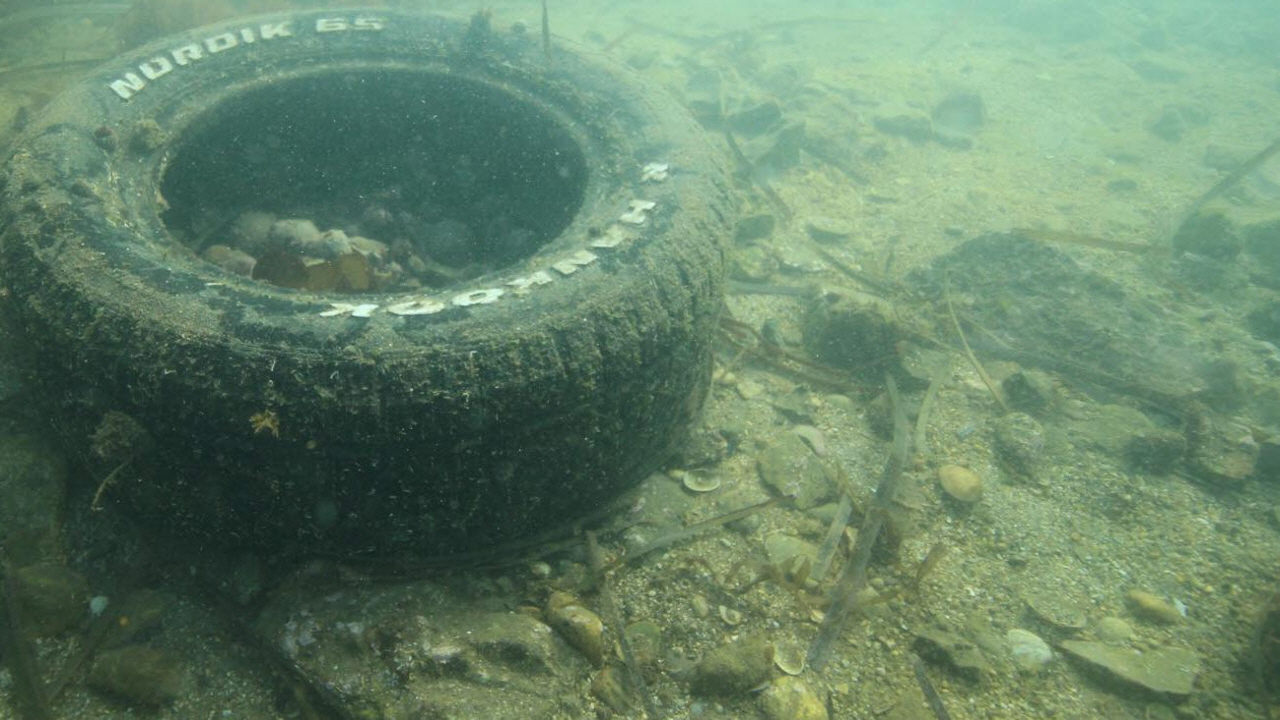tire: (0, 4, 737, 556)
